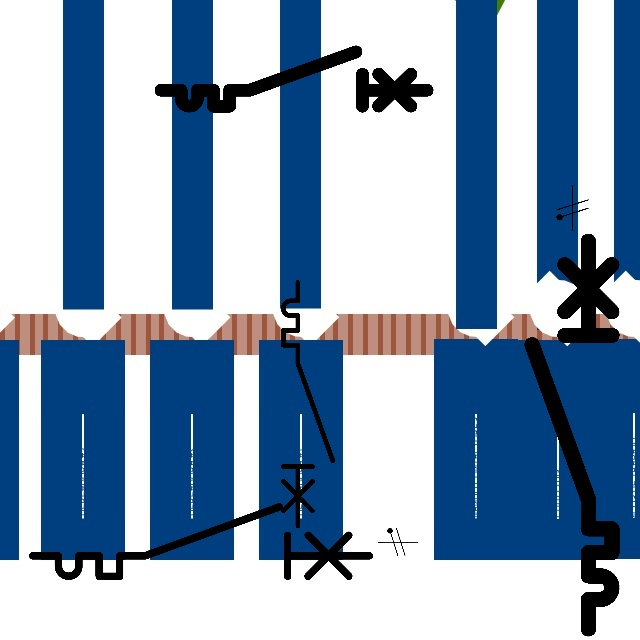interruptor_termomagnetico: (522, 231, 622, 639), (24, 498, 378, 585), (154, 45, 434, 113), (277, 276, 339, 532)
